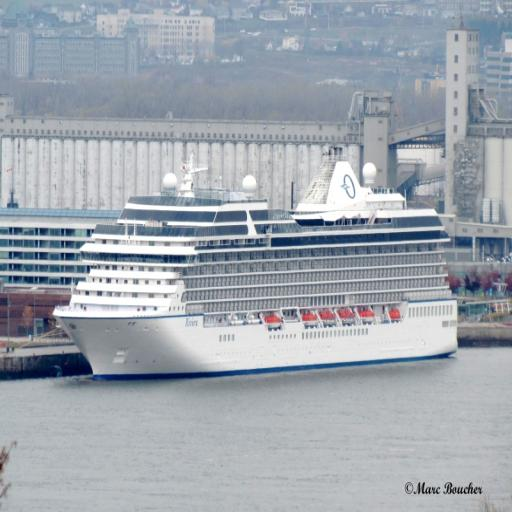cruises: (48, 138, 465, 379)
